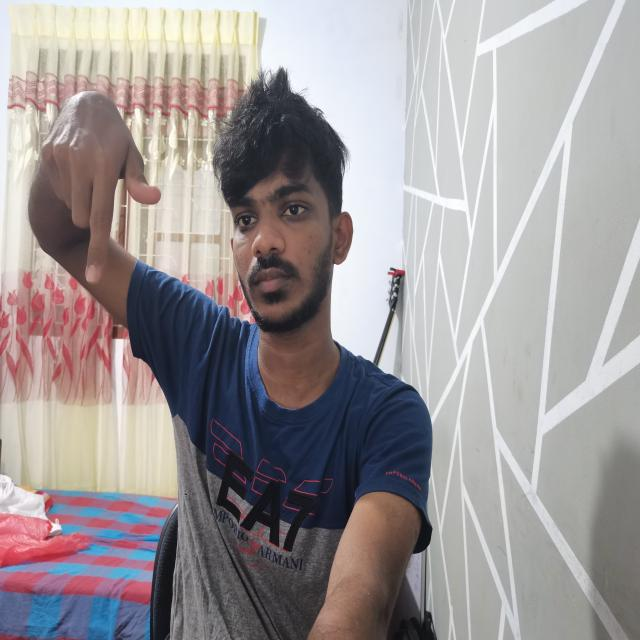Yes: (23, 70, 168, 304)
